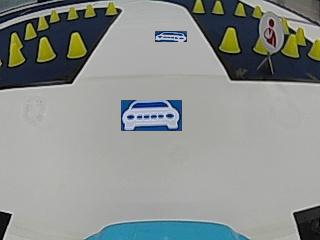cone: (219, 27, 240, 54), (66, 32, 87, 59), (8, 34, 24, 65), (37, 37, 56, 61), (282, 35, 299, 57), (308, 37, 320, 60), (25, 22, 37, 39), (104, 2, 117, 16), (192, 0, 205, 14), (66, 6, 78, 20), (37, 15, 49, 29), (84, 4, 96, 17), (234, 3, 246, 16), (212, 1, 224, 14), (251, 5, 263, 18), (49, 9, 60, 22)
patient: (262, 12, 282, 50)
